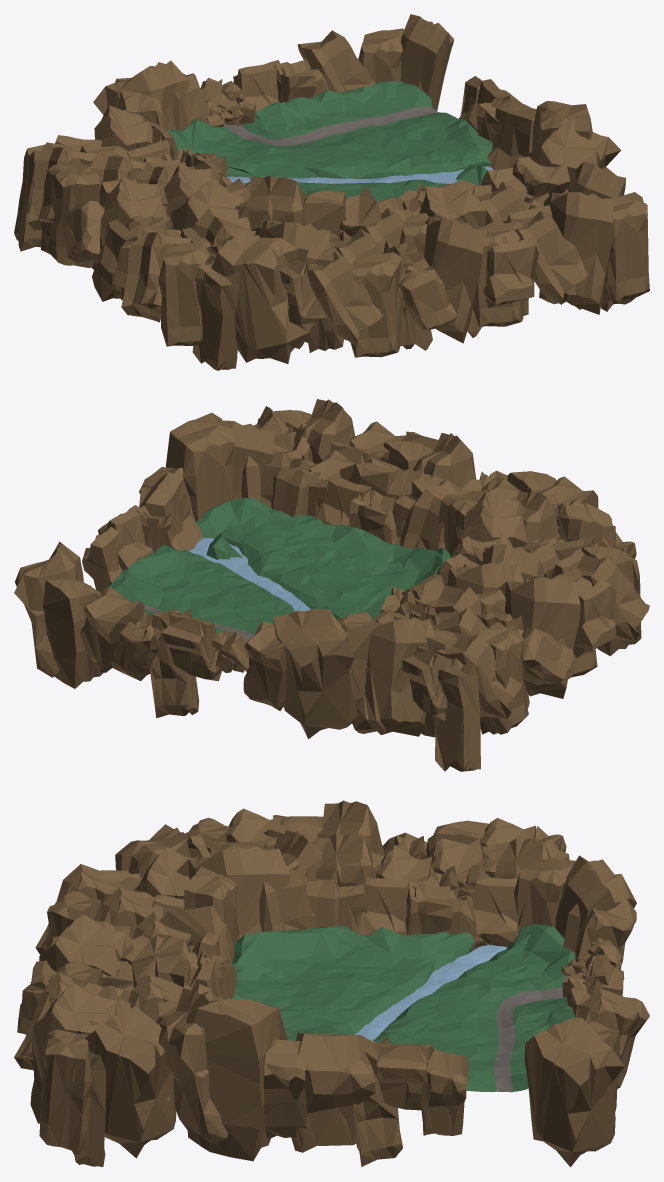
Rendered from home_base_fixed 1.fbx.
3 views of the same model, one above another, from view 1: azimuth 30°, elevation 25°; view 2: azimuth 150°, elevation 25°; view 3: azimuth 270°, elevation 25° (orthographic). The views are drawn at different scales.
Visible parts, largest first — view 1: pPlane2, pCube132, pCube184, pCube190, pCube191, pCube181, pCube185, pCube148, pCube176, pCube139, pCube15, pCube198 (+46 smaller); view 2: pPlane2, pCube7, pCube205, pCube24, pCube138, pCube172, pCube16, pCube15, pCube13, pCube2, pCube6, pCube170 (+51 smaller); view 3: pPlane2, pCube15, pCube24, pCube196, pCube34, pCube185, pCube23, pCube31, pCube33, pCube184, pCube12, pCube190 (+46 smaller).
Boxes of the visible parts, x1,y1,x2,y2 form: pPlane2: (167, 81, 492, 201); pCube132: (211, 231, 309, 363); pCube184: (539, 192, 613, 314); pCube190: (423, 216, 486, 343); pCube191: (350, 252, 405, 357); pCube181: (158, 241, 212, 346); pCube185: (603, 192, 649, 301); pCube148: (192, 259, 240, 370); pCube176: (305, 251, 383, 345); pCube139: (41, 163, 100, 267); pCube15: (400, 14, 453, 110); pCube198: (514, 210, 588, 304); pPlane2: (106, 498, 451, 670); pCube7: (273, 608, 357, 738); pCube205: (352, 617, 435, 736); pCube24: (166, 412, 234, 521); pCube138: (499, 577, 580, 698); pCube172: (435, 658, 480, 771); pCube16: (43, 579, 103, 688); pCube15: (14, 541, 83, 677); pCube13: (80, 587, 144, 672); pCube2: (146, 608, 199, 718); pCube6: (243, 621, 286, 710); pCube170: (434, 632, 521, 718); pPlane2: (230, 924, 575, 1092); pCube15: (524, 1017, 624, 1166); pCube24: (186, 999, 287, 1161); pCube196: (84, 1006, 176, 1158); pCube34: (291, 1033, 375, 1152); pCube185: (39, 1029, 91, 1154); pCube23: (158, 988, 228, 1143); pCube31: (176, 846, 290, 939); pCube33: (263, 1039, 307, 1138); pCube184: (30, 983, 124, 1123); pCube12: (420, 1049, 468, 1135); pCube190: (39, 914, 134, 976).
Bounding box in the file's own units: 2276 × 668 × 2293.
